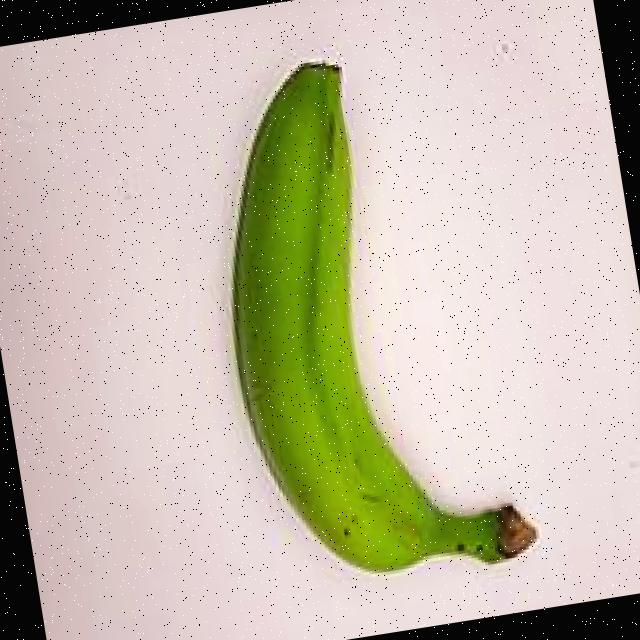Raw: (176, 17, 597, 637)
